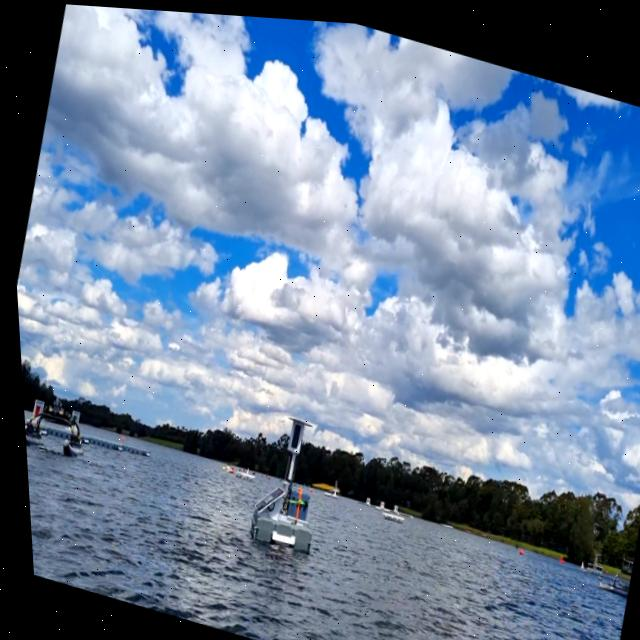led: (282, 417, 299, 448)
